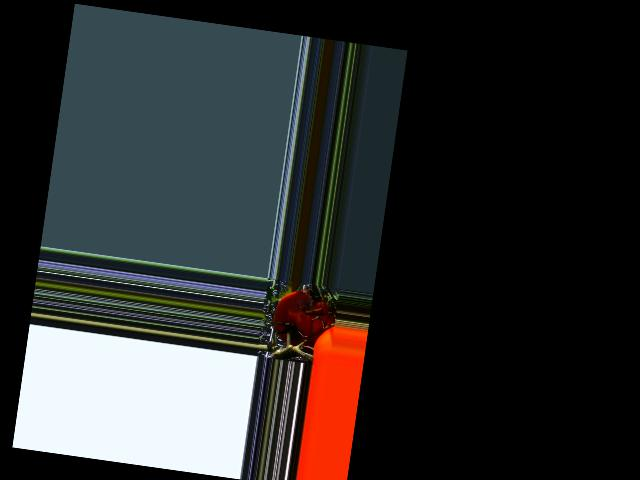tomato: (270, 286, 338, 351)
